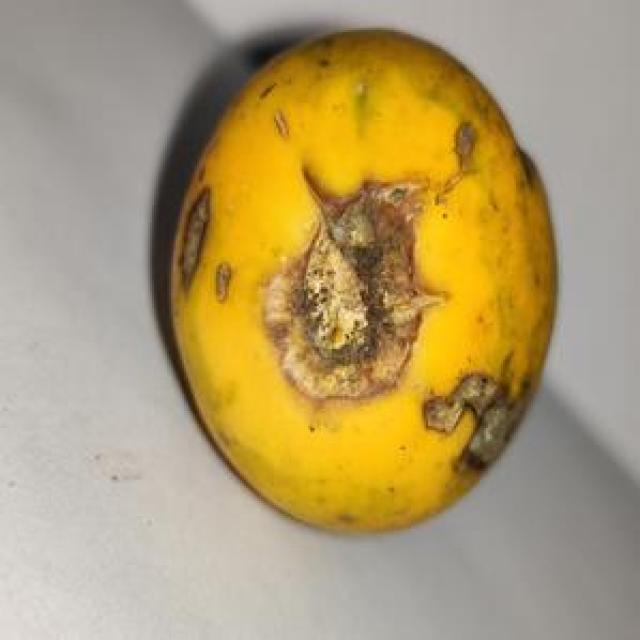damaged: (154, 28, 552, 527)
